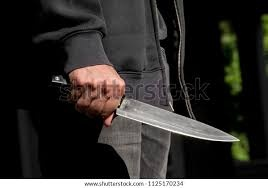knife: (51, 75, 240, 142)
